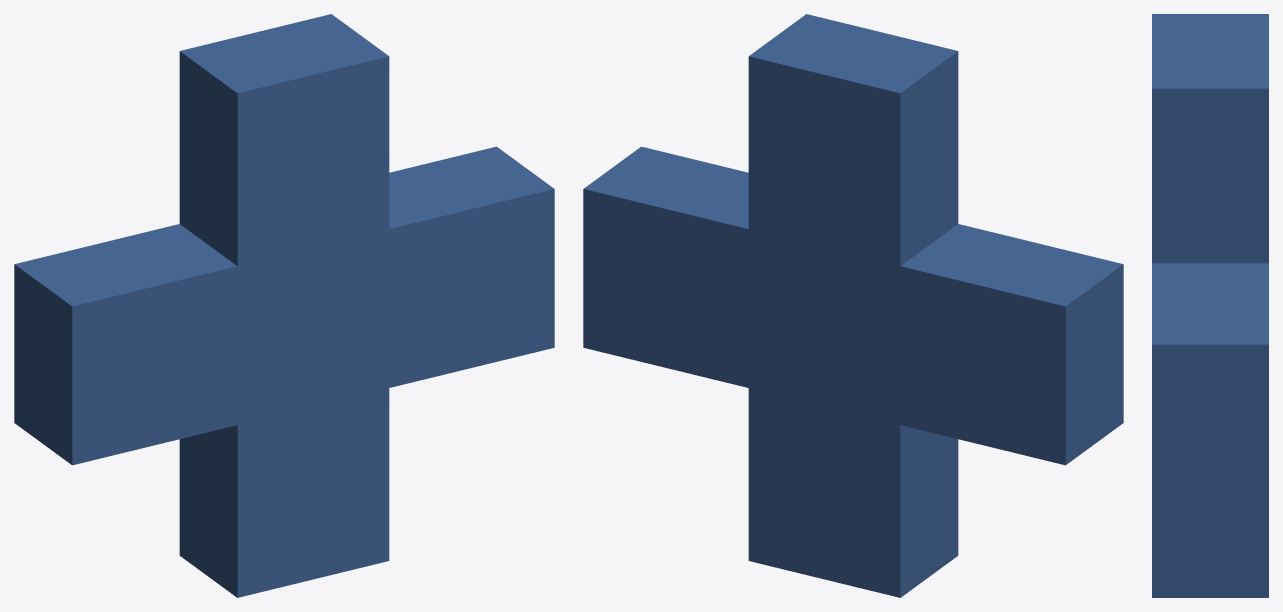
The model's file is 04 plus.FBX.
3 views of the same model, side by side, from view 1: azimuth 30°, elevation 25°; view 2: azimuth 150°, elevation 25°; view 3: azimuth 270°, elevation 25° (orthographic).
Parts seen in each view (by area): view 1: SM_Icon_Health_02; view 2: SM_Icon_Health_02; view 3: SM_Icon_Health_02.
Part boxes in pixels (x1,y1,x2,y2): SM_Icon_Health_02: (14, 14, 554, 597); SM_Icon_Health_02: (583, 14, 1123, 597); SM_Icon_Health_02: (1152, 14, 1268, 597).
Size of the model in its own units: 52.49 by 52.49 by 10.91.
